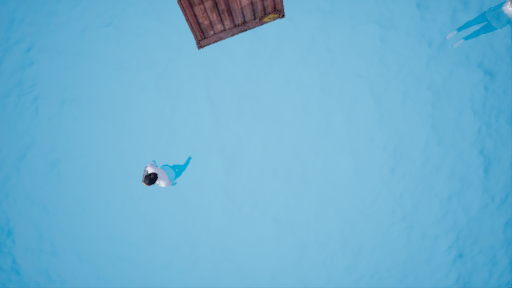person: (125, 153, 194, 194)
